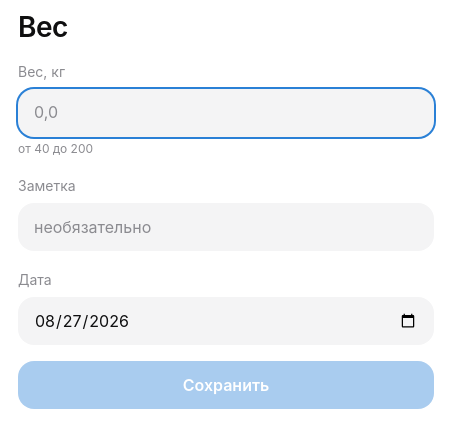
Weight form › keeps saving disabled until the weight is in range
This screenshot has width=453, height=446.
Expected: the button "Сохранить" is disabled, [18, 361, 434, 409]
In the field with placeholder "0,0": (226, 113) [18, 89, 434, 137], type "25"
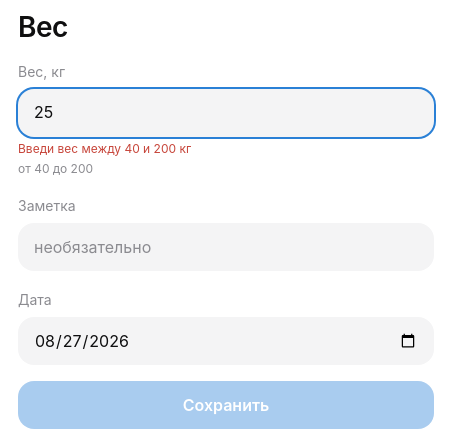
Expected: the button "Сохранить" is disabled, [18, 381, 434, 429]
Expected: the text "Введи вес между 40 и 200 кг" is shown, [18, 141, 191, 156]
Replace the text in the field with placeholder "0,0" with "83,4": (226, 113) [18, 89, 434, 137]
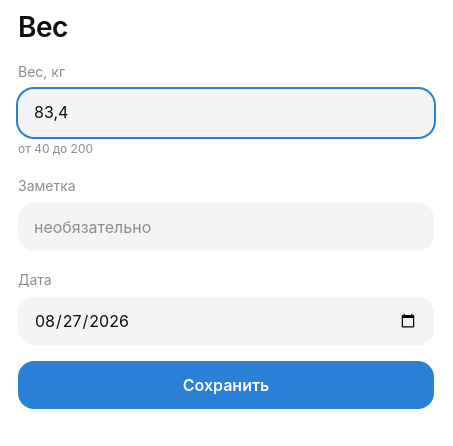
Expected: the button "Сохранить" is enabled, [18, 361, 434, 409]
